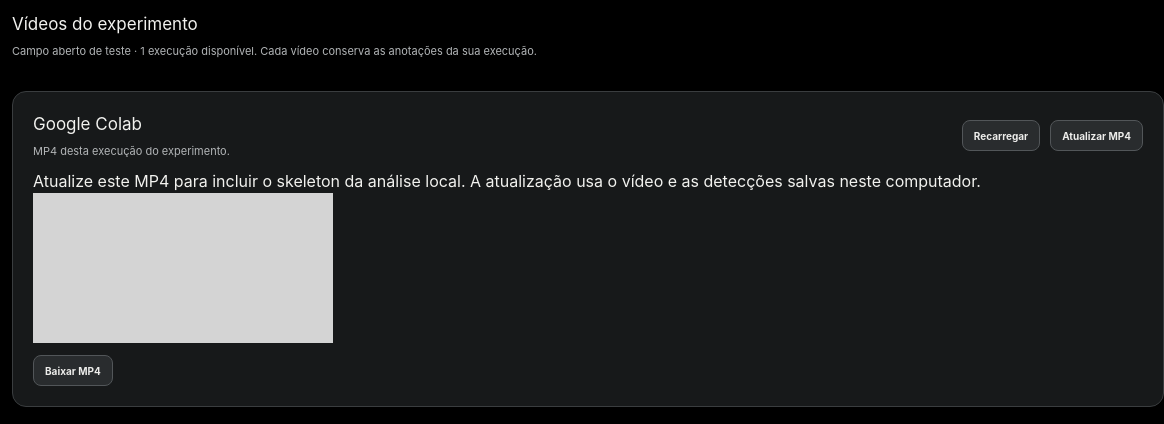
upgrades a saved MP4 with a skeleton and reloads the exported artifact
Click the button "Atualizar MP4" at (1097, 136), box [1050,120,1143,151]
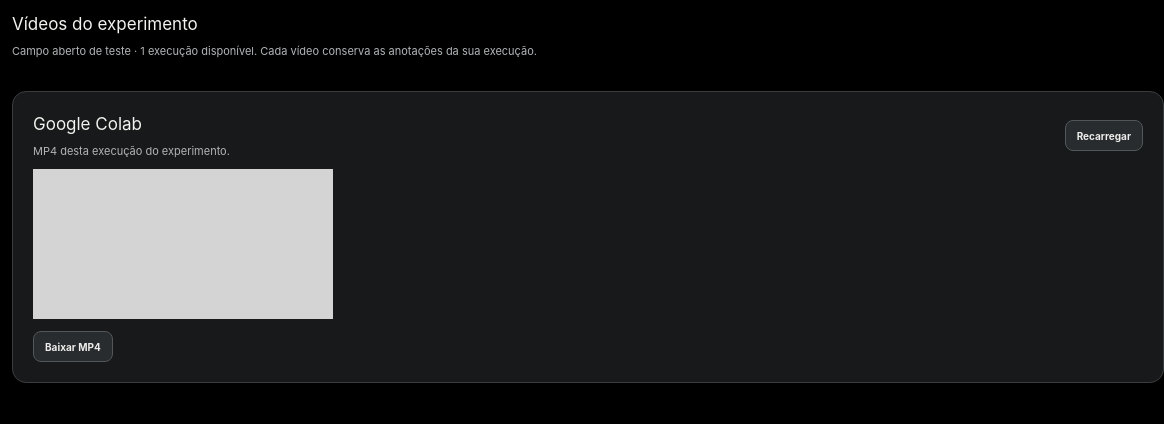
Expected: the button "Baixar MP4" is shown, [33,331,113,362]
Now the button "Atualizar MP4" is gone
